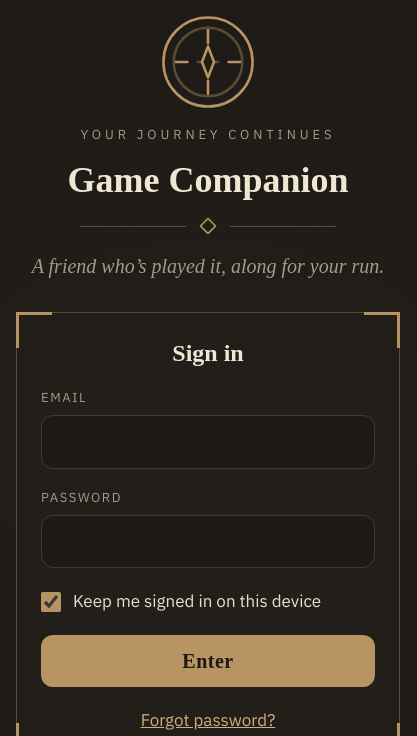
Test: SignInPage › shows the network message when the server is unreachable
This screenshot has width=417, height=736.
expect the heading "Sign in" is shown: met, box [172,340,244,366]
Step 1. Type "vaela@example.com" into the field labelled "Email" → (208, 442), box [41,415,375,469]
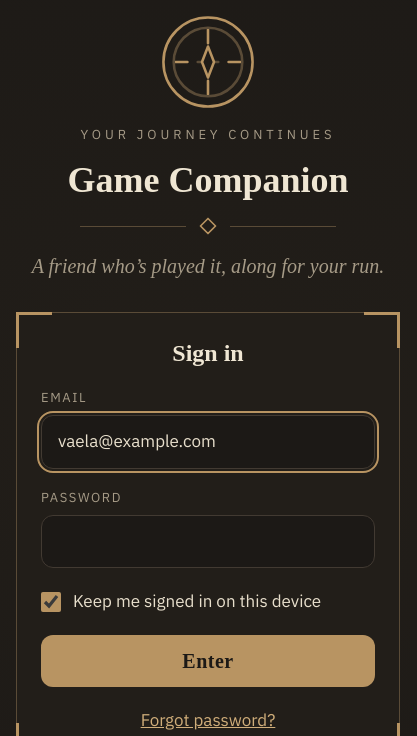
Step 2. Type "stub-password" into the password field labelled "Password" → (208, 541), box [41,515,375,568]
Then press Enter
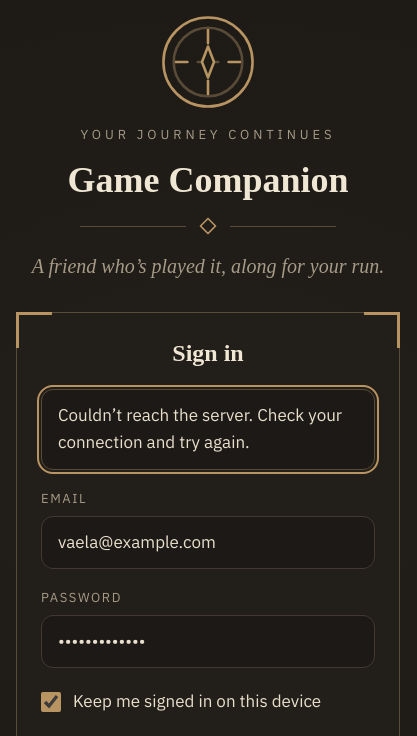
expect the message shows "Couldn’t reach the server.": met, box [58,404,342,453]
